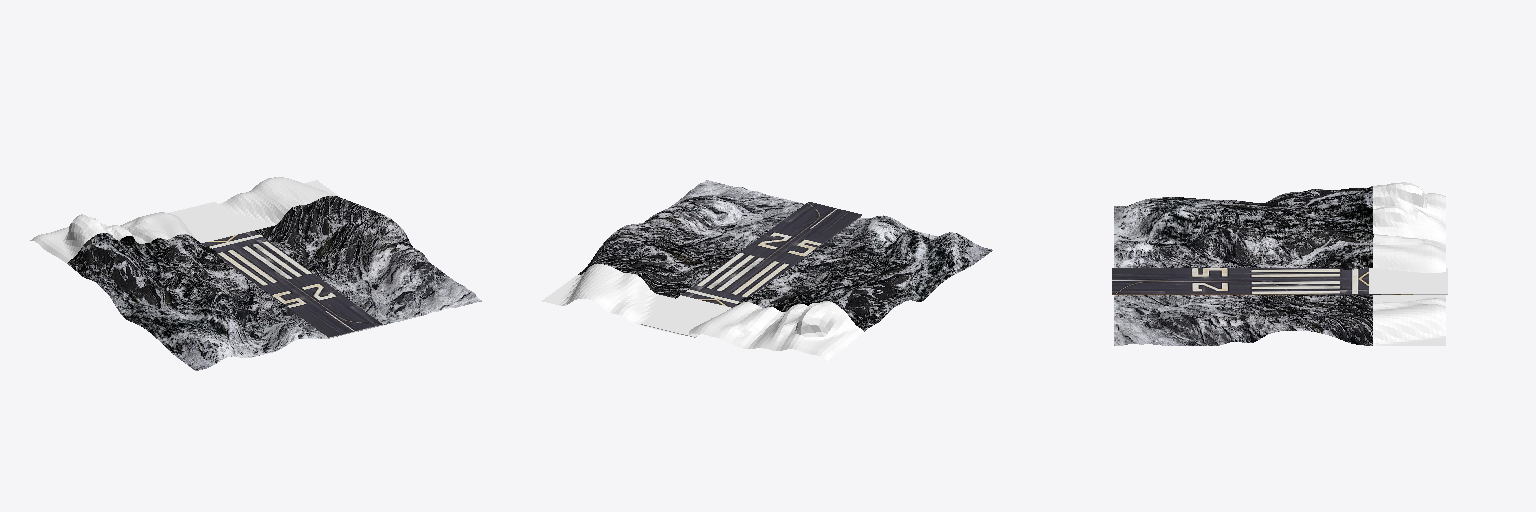
3 renders of one model, left to right at view 1: azimuth 30°, elevation 25°; view 2: azimuth 150°, elevation 25°; view 3: azimuth 270°, elevation 25°, orthographic.
Parts seen in each view (by area): view 1: Plane, Cube; view 2: Plane, Cube; view 3: Plane, Cube.
Part boxes in pixels (bbox=[...]): Plane: bbox=[30, 177, 481, 370]; Cube: bbox=[170, 202, 382, 337]; Plane: bbox=[542, 180, 992, 360]; Cube: bbox=[641, 202, 861, 337]; Plane: bbox=[1114, 182, 1445, 345]; Cube: bbox=[1112, 268, 1447, 294].
Size of the model in its own units: 106 by 13.89 by 107.
2 materials, 2 textured.